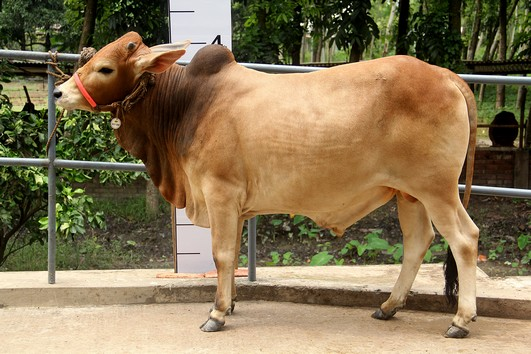cow: (48, 25, 490, 341)
